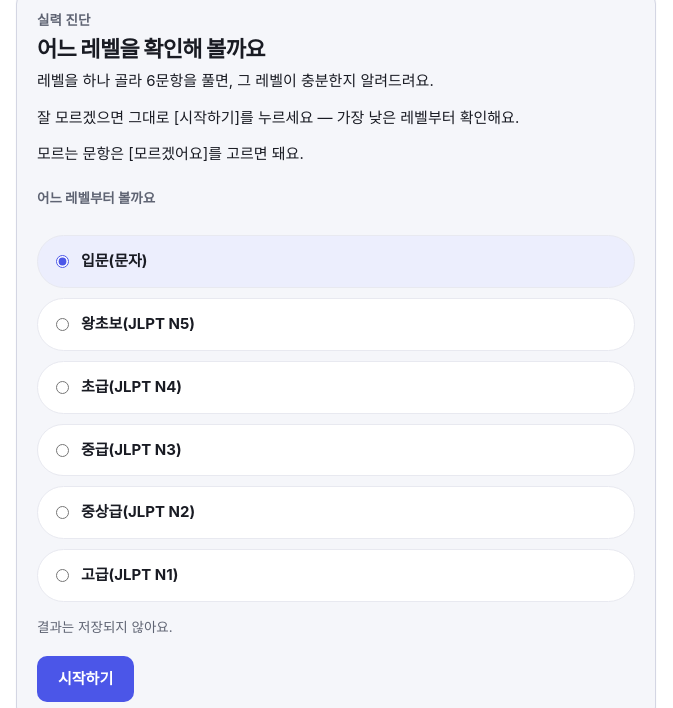
Test case: [시작하기]는 화면에 하나뿐이다 (05 §3-2) › 레벨마다 시작 버튼을 만들지 않는다
This screenshot has width=673, height=708.
Expected: the number of buttons is 1, [37,656,134,702]
Step 1. Click the radio button labelled "중급(JLPT N3)" → (62, 450), box [56,444,69,457]
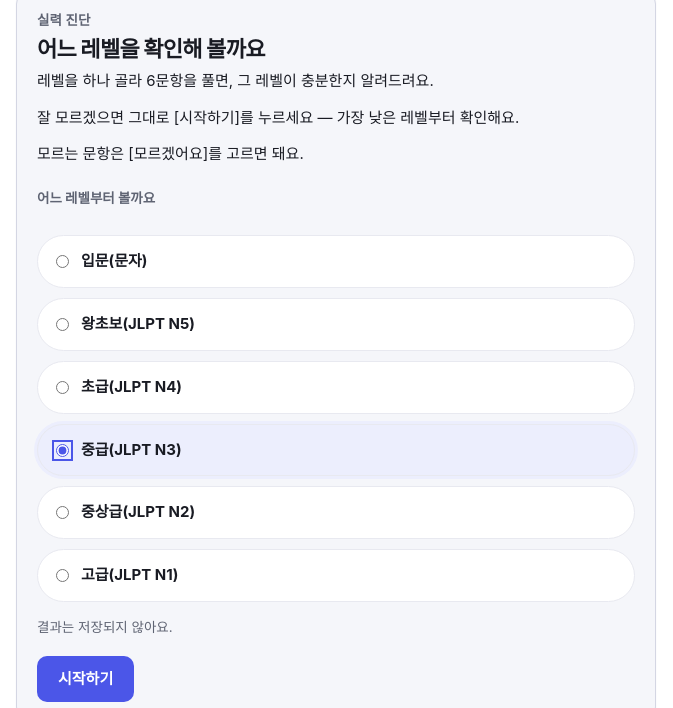
Step 2. Click the button "시작하기" → (86, 679), box [37,656,134,702]
(page scrolled)
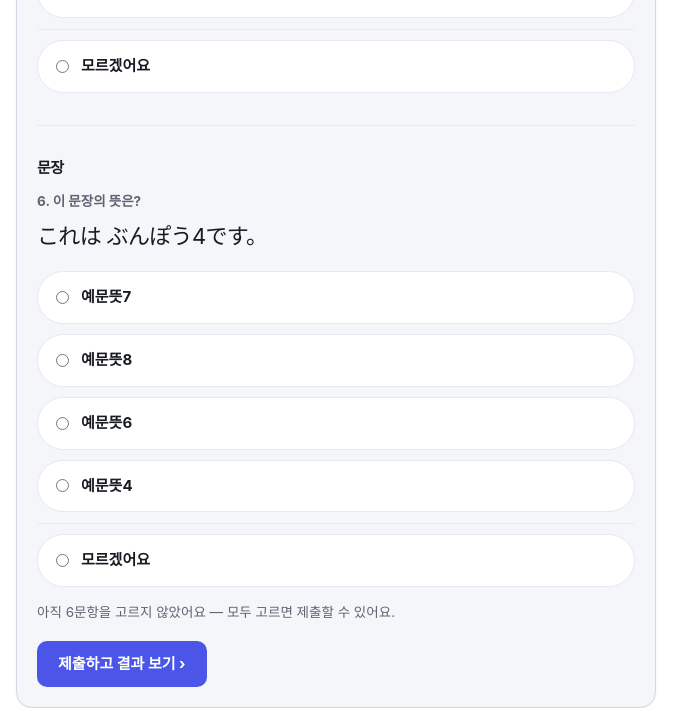
Expected: the number of buttons with class "k-btn--primary" is 1, [37,641,206,687]
Result: the button "제출하고 결과 보기 ›" is shown at [37,641,206,687]
